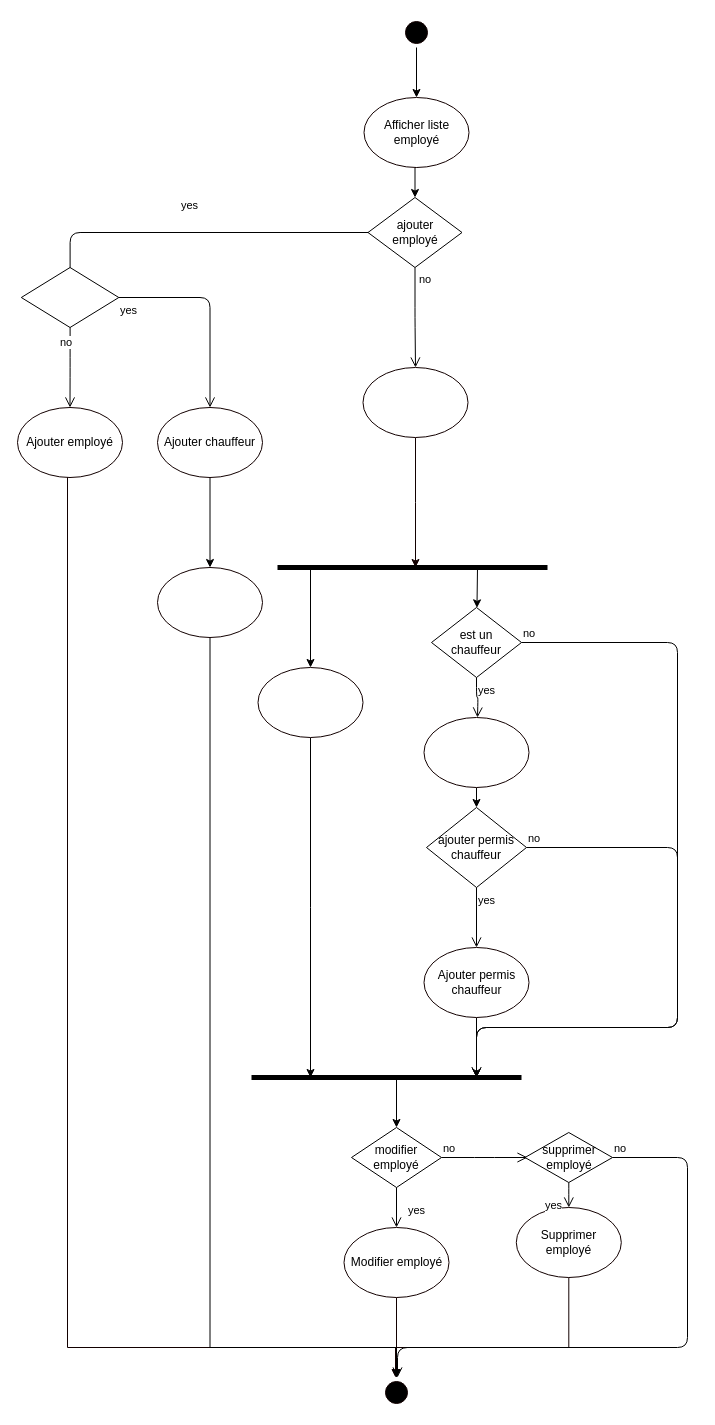
The diagram is 715 pixels wide and 1425 high, and some of its shapes have lost their labels. Here are the shapes that lost their labels. From the top down, the box of each, then its label:
(20, 266, 119, 328): Ajout d'un chauffeur
(362, 366, 468, 438): Afficher fiche employé
(156, 566, 262, 638): Ajouter permis
(257, 666, 363, 738): Afficher nb heure employé
(423, 716, 529, 788): Voir kilometre chauffeur
